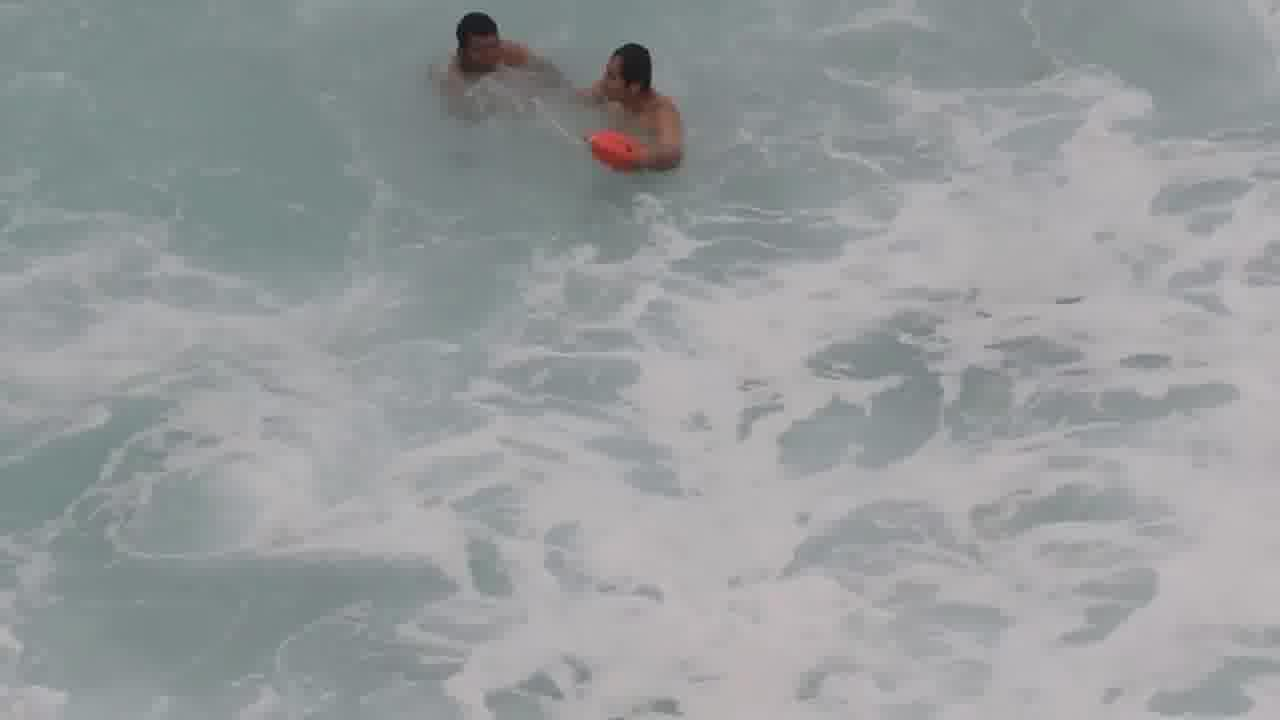human: (581, 33, 690, 133), (432, 3, 525, 86)
